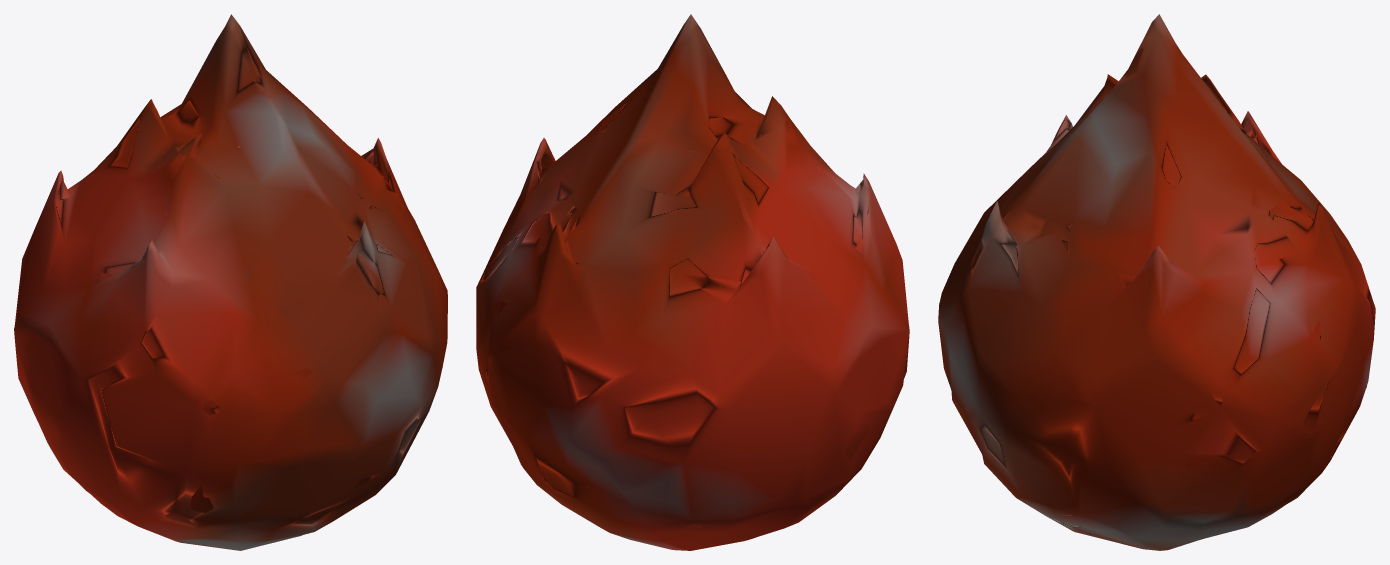
Rendered from gen3d-fireball-lod0.glb.
3 views of the same model, side by side, from view 1: azimuth 30°, elevation 25°; view 2: azimuth 150°, elevation 25°; view 3: azimuth 270°, elevation 25° (orthographic).
Visible parts, largest first — view 1: part_0; view 2: part_0; view 3: part_0.
Boxes of the visible parts, x1,y1,x2,y2 form: part_0: (14, 14, 447, 550); part_0: (476, 14, 909, 550); part_0: (938, 14, 1375, 550).
Bounding box in the file's own units: 0.7432 × 0.9991 × 0.7657.
